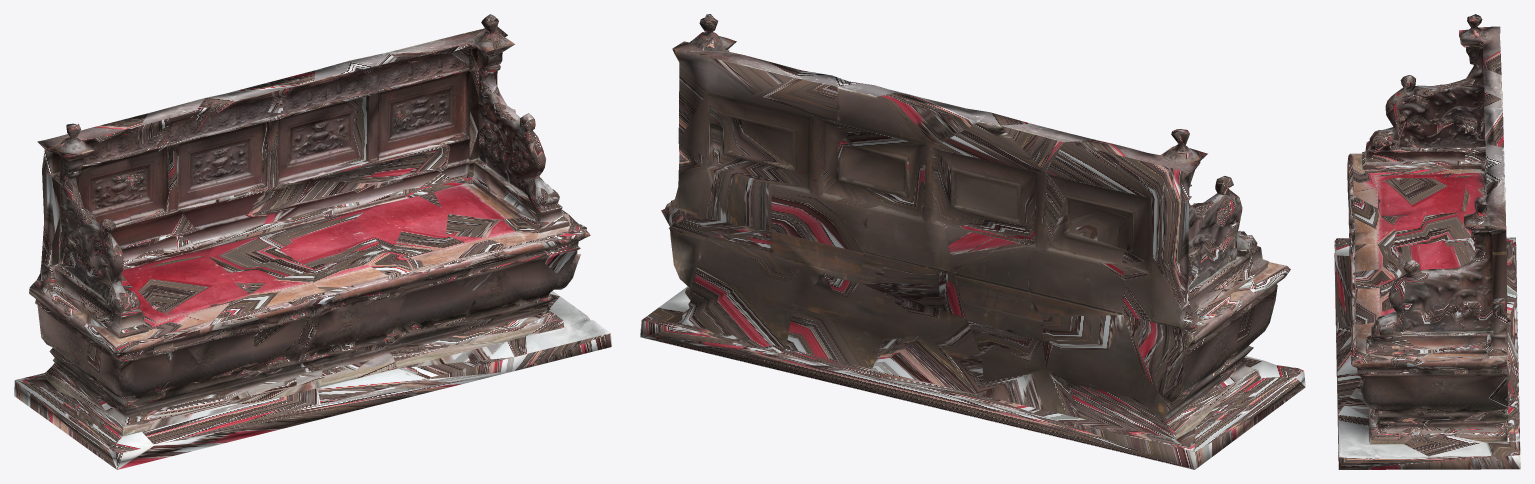
The model's file is 18th_century_bench_from_hungarian_opera.glb.
3 renders of one model, left to right at view 1: azimuth 30°, elevation 25°; view 2: azimuth 150°, elevation 25°; view 3: azimuth 270°, elevation 25°, orthographic. The views are drawn at different scales.
Parts seen in each view (by area): view 1: Object_2; view 2: Object_2; view 3: Object_2.
Part boxes in pixels (x1,y1,x2,y2): Object_2: (14, 14, 611, 469); Object_2: (640, 14, 1305, 469); Object_2: (1334, 14, 1520, 469).
Bounding box in the file's own units: 10.45 × 5.68 × 3.77.
1 material, 1 textured.
